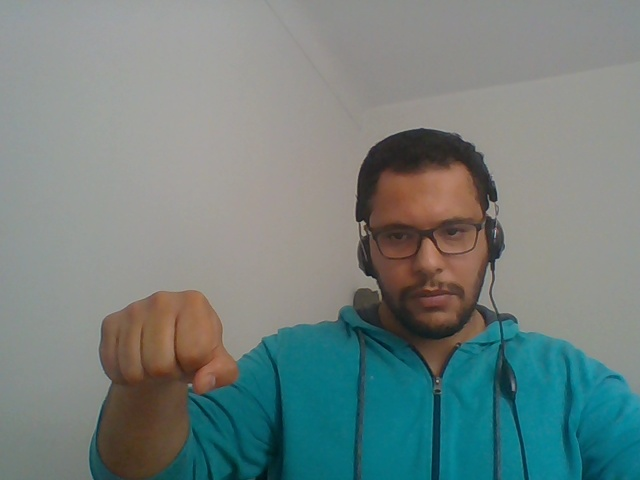yes: (89, 271, 256, 419)
